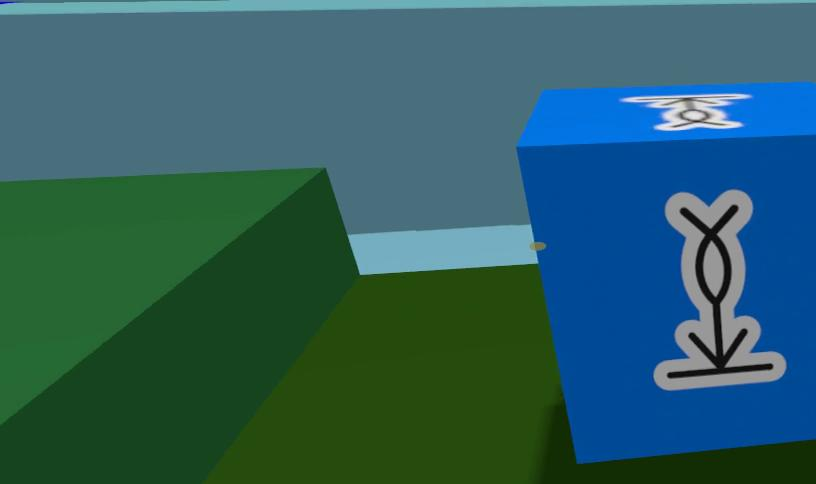KFS_REAL: (516, 82, 816, 461), (653, 190, 785, 390), (623, 95, 749, 131)
